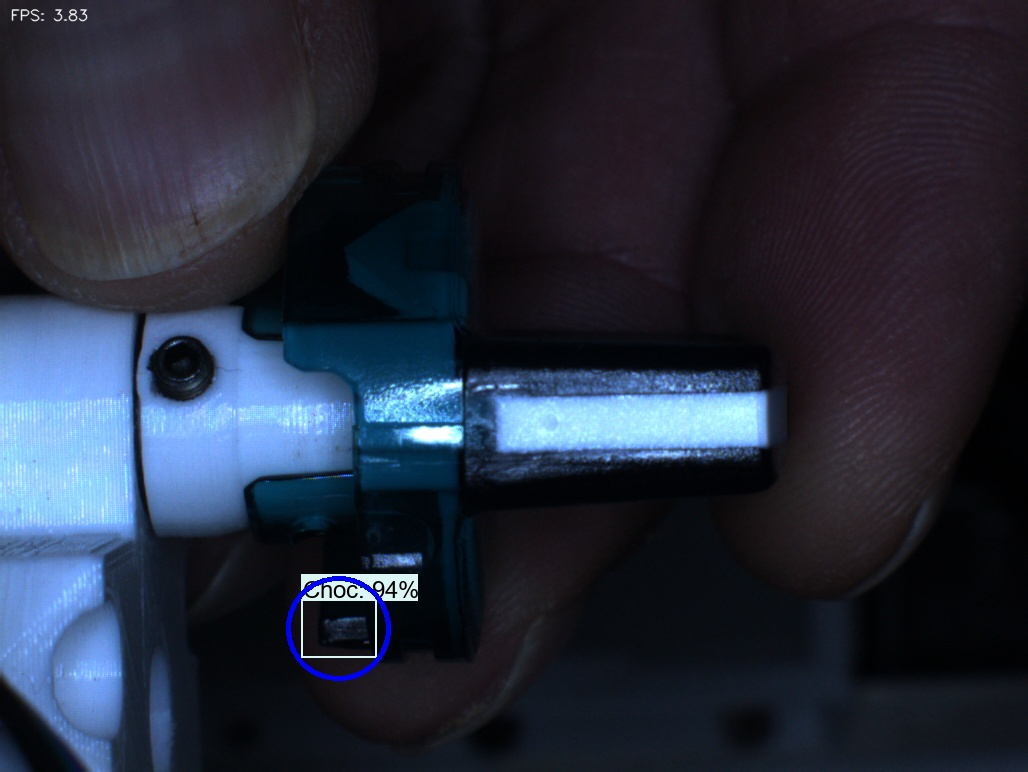DentOk: (320, 205, 391, 310)
